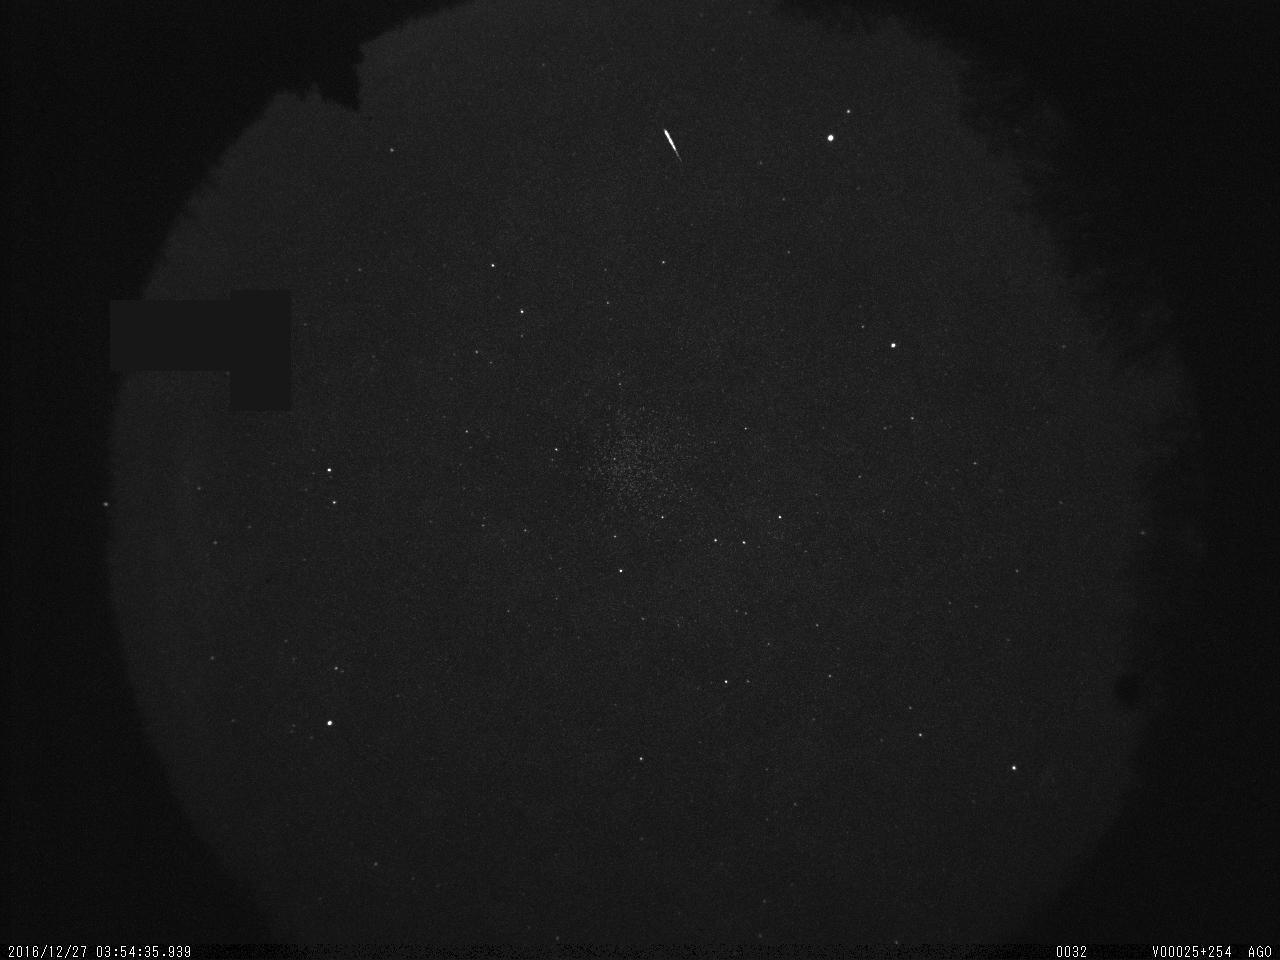Meteor: (661, 114, 684, 174)
